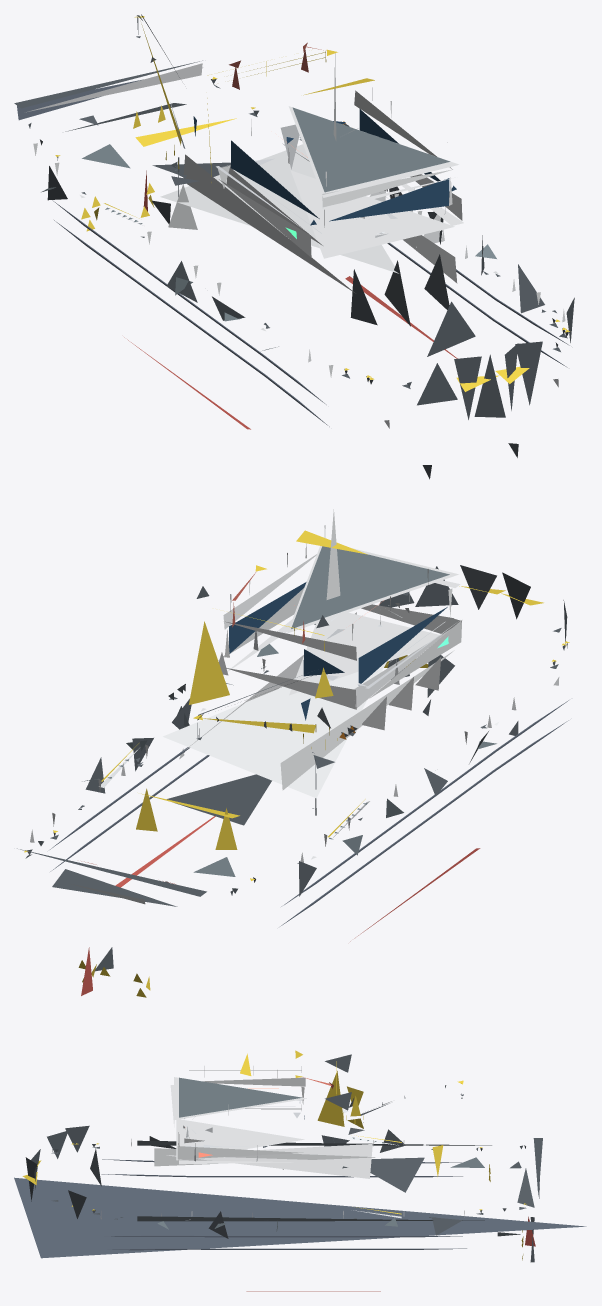
Rendered from ship_02.glb.
3 renders of one model, top to bottom at view 1: azimuth 30°, elevation 25°; view 2: azimuth 150°, elevation 25°; view 3: azimuth 270°, elevation 25°, orthographic. The views are drawn at different scales.
Visible parts, largest first — view 1: TrueHelm_Ship_02; view 2: TrueHelm_Ship_02; view 3: TrueHelm_Ship_02.
Boxes of the visible parts, x1,y1,x2,y2 form: TrueHelm_Ship_02: (14, 14, 574, 479); TrueHelm_Ship_02: (17, 509, 569, 997); TrueHelm_Ship_02: (14, 1050, 586, 1291).
Size of the model in its own units: 0.1878 by 0.2176 by 0.5245.
